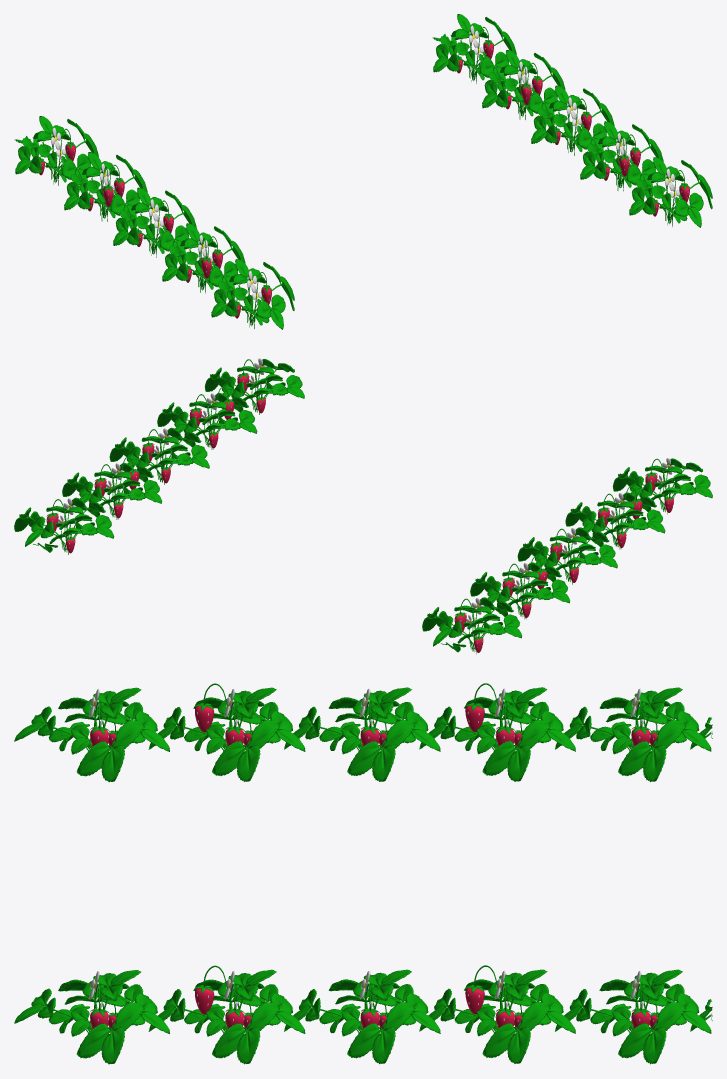
The model's file is Strawberries1a.glb.
3 renders of one model, top to bottom at view 1: azimuth 30°, elevation 25°; view 2: azimuth 150°, elevation 25°; view 3: azimuth 270°, elevation 25°, orthographic. The views are drawn at different scales.
Parts seen in each view (by area): view 1: StrawBerries1, StrawBerries1_1; view 2: StrawBerries1, StrawBerries1_1; view 3: StrawBerries1, StrawBerries1_1.
Boxes of the visible parts, x1,y1,x2,y2 form: StrawBerries1: (14,14,712,329); StrawBerries1_1: (165,17,663,317); StrawBerries1: (25,358,702,654); StrawBerries1_1: (14,402,712,561); StrawBerries1: (14,683,712,1064); StrawBerries1_1: (58,697,686,1064).
Bounding box in the file's own units: 5.06 × 0.5703 × 4.34.
